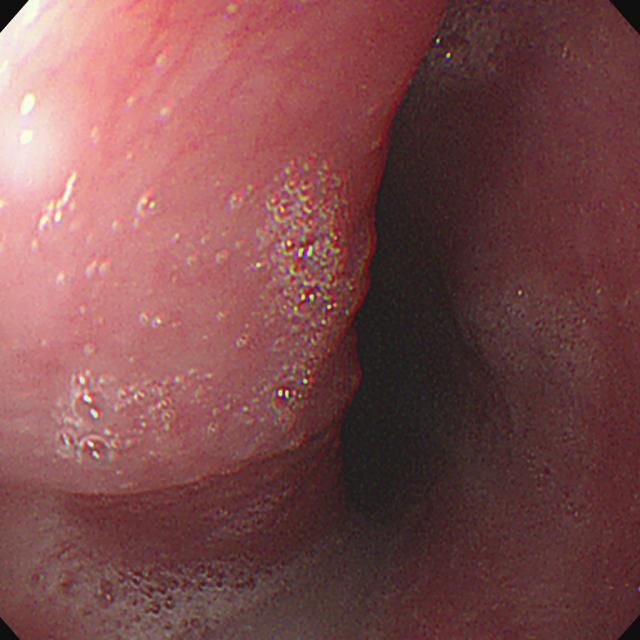T: (28, 546, 308, 640), (265, 152, 348, 425), (58, 375, 113, 468)
